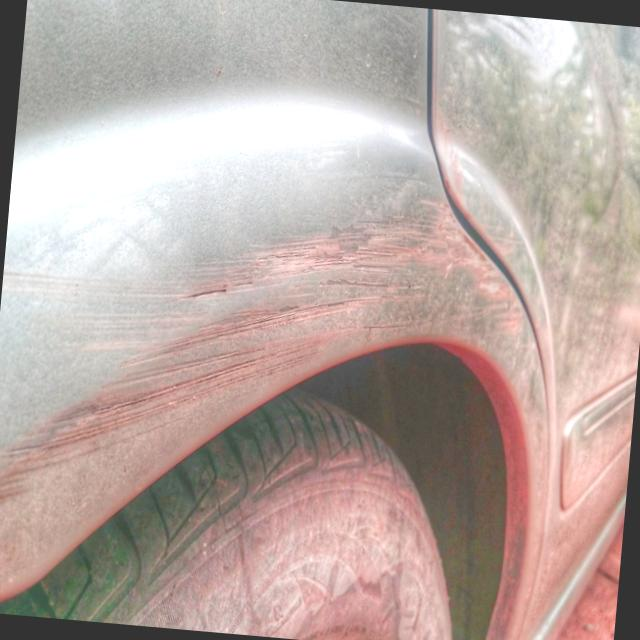Rayure: (0, 178, 547, 632)
